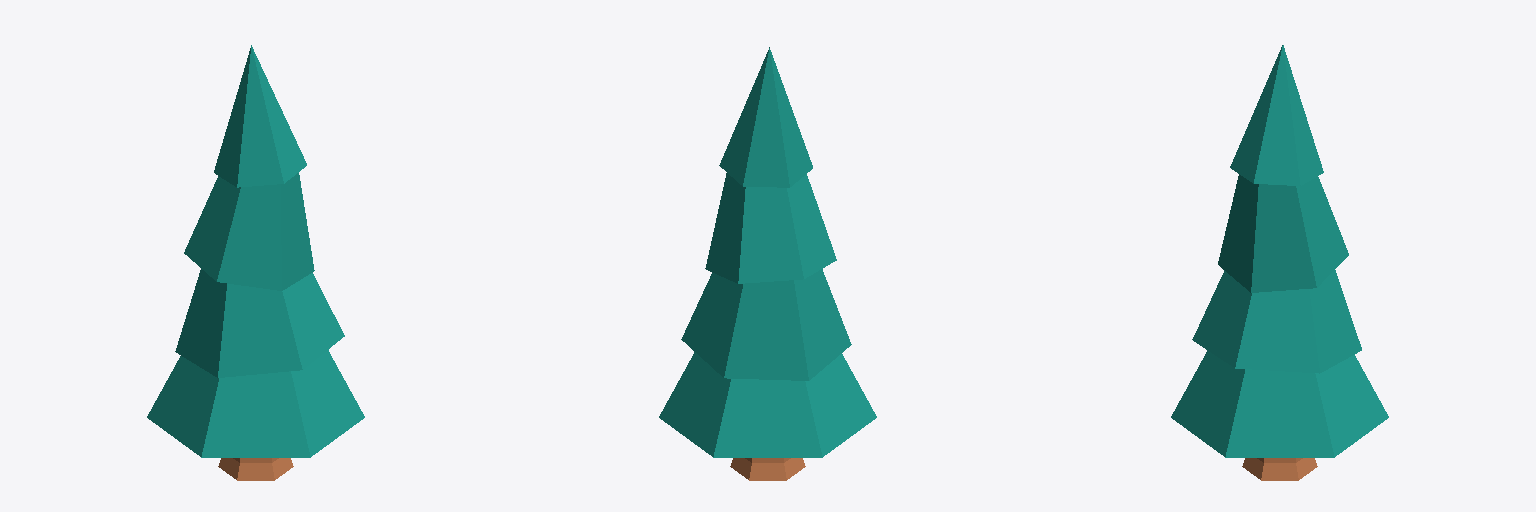
The model's file is treePine.obj.
The picture shows the model from 3 angles: view 1: azimuth 30°, elevation 25°; view 2: azimuth 150°, elevation 25°; view 3: azimuth 270°, elevation 25°; orthographic projection.
Visible parts, largest first — view 1: treePine; view 2: treePine; view 3: treePine.
Boxes of the visible parts, x1=… form: treePine: x1=147, y1=45, x2=364, y2=480; treePine: x1=659, y1=47, x2=876, y2=480; treePine: x1=1171, y1=45, x2=1388, y2=480.
Size of the model in its own units: 0.651 by 1.6 by 0.7517.